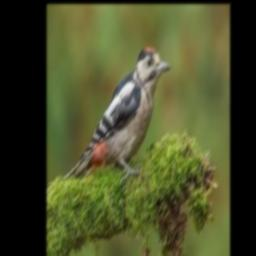Woodpecker: (64, 46, 171, 181)
